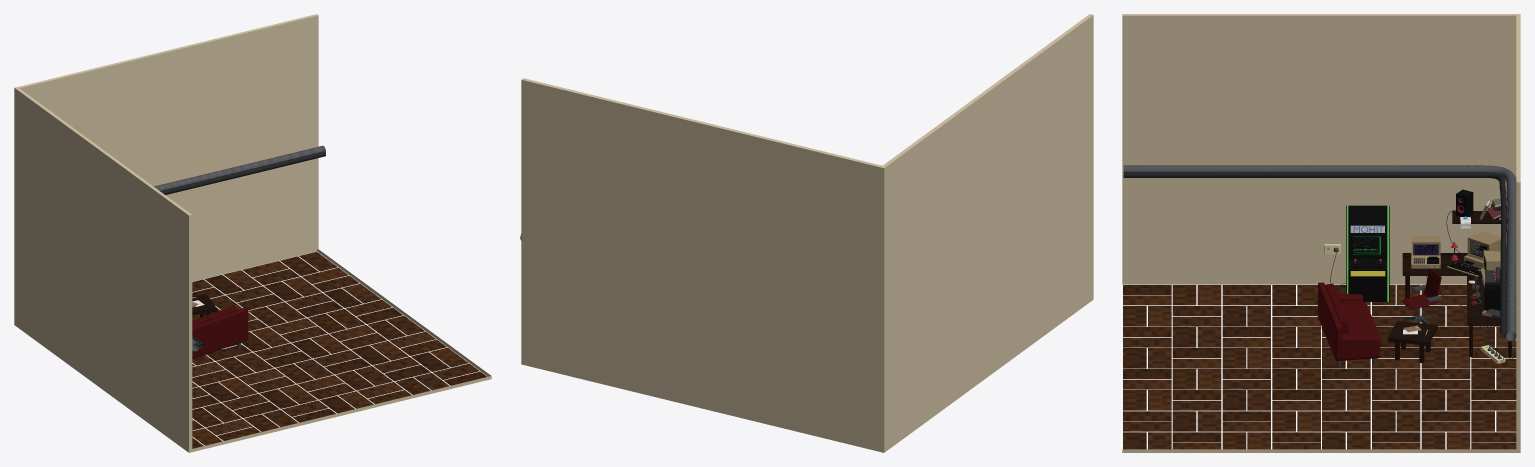
Rendered from haker_roomBKC.glb.
The picture shows the model from 3 angles, left to right: view 1: azimuth 30°, elevation 25°; view 2: azimuth 150°, elevation 25°; view 3: azimuth 270°, elevation 25°; orthographic projection. The views are drawn at different scales.
Visible parts, largest first — view 1: walls, ground, sofa, pipe, NurbsPath.001; view 2: walls; view 3: walls, ground, pipe, gaming mashine, sofa, NurbsPath.001, table.001, table, computer, Plane.013, chair, SPAKER (+2 smaller).
Boxes of the visible parts, bbox=[...] form: walls: bbox=[14, 14, 491, 452]; ground: bbox=[192, 251, 487, 448]; sofa: bbox=[192, 306, 248, 359]; pipe: bbox=[154, 145, 325, 351]; NurbsPath.001: bbox=[160, 151, 325, 348]; walls: bbox=[521, 14, 1093, 452]; walls: bbox=[1122, 14, 1520, 452]; ground: bbox=[1123, 285, 1516, 449]; pipe: bbox=[1123, 165, 1516, 340]; gaming mashine: bbox=[1346, 205, 1389, 302]; sofa: bbox=[1318, 282, 1380, 361]; NurbsPath.001: bbox=[1123, 172, 1506, 338]; table.001: bbox=[1402, 253, 1511, 356]; table: bbox=[1387, 321, 1437, 362]; computer: bbox=[1411, 236, 1440, 268]; Plane.013: bbox=[1464, 232, 1500, 268]; chair: bbox=[1402, 268, 1441, 309]; SPAKER: bbox=[1456, 189, 1473, 216].
Bounding box in the file's own units: 8.07 × 6 × 8.
107 materials, 50 textured.
